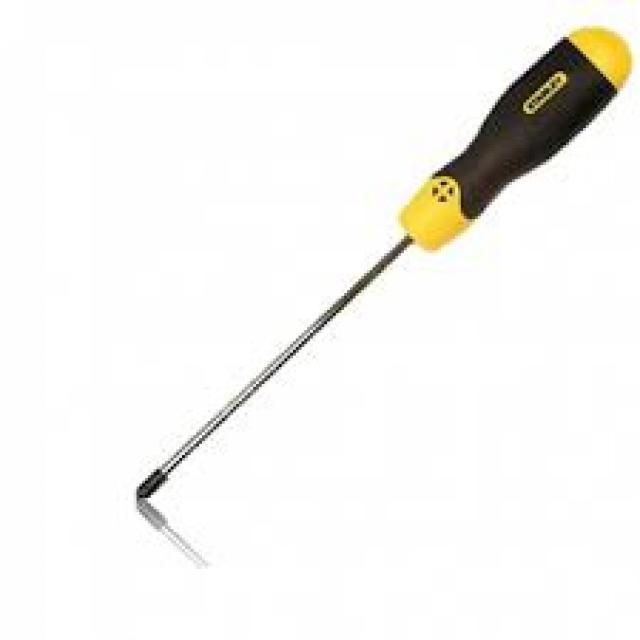screwdriver: (128, 21, 637, 502)
